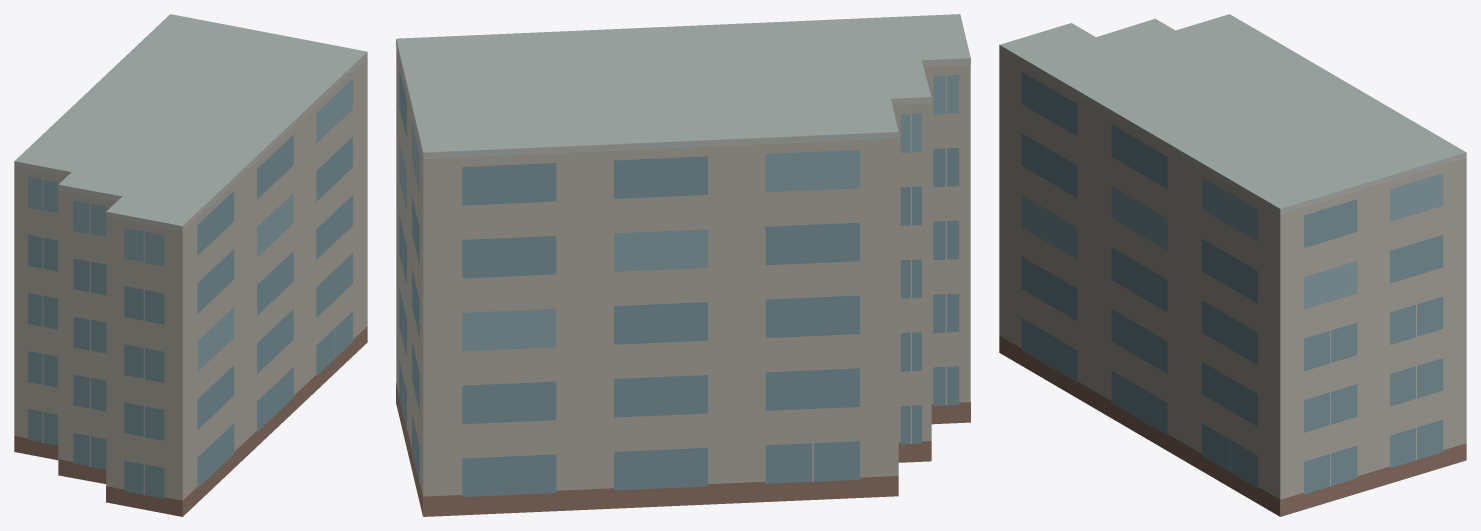
Rendered from survey-upis-32528984.glb.
3 renders of one model, left to right at view 1: azimuth 30°, elevation 25°; view 2: azimuth 150°, elevation 25°; view 3: azimuth 270°, elevation 25°, orthographic. The views are drawn at different scales.
Visible parts, largest first — view 1: survey-upis-32528984.tmp; view 2: survey-upis-32528984.tmp; view 3: survey-upis-32528984.tmp.
Boxes of the visible parts, box(x1,y1,x2,y2) form: survey-upis-32528984.tmp: box(14, 14, 367, 516); survey-upis-32528984.tmp: box(396, 14, 970, 516); survey-upis-32528984.tmp: box(999, 14, 1466, 516).
Bounding box in the file's own units: 18.75 × 13.8 × 18.98.
